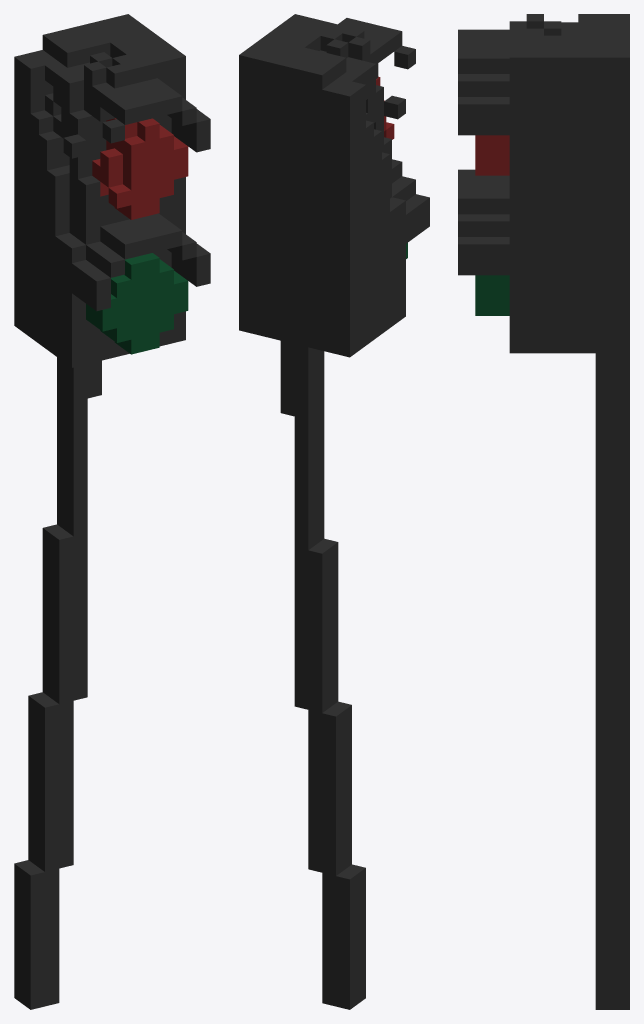
Rendered from Background_A_trafficlight_02.FBX.
3 renders of one model, left to right at view 1: azimuth 30°, elevation 25°; view 2: azimuth 150°, elevation 25°; view 3: azimuth 270°, elevation 25°, orthographic. The views are drawn at different scales.
Parts seen in each view (by area): view 1: Load_A-8; view 2: Load_A-8; view 3: Load_A-8.
Boxes of the visible parts, x1,y1,x2,y2 form: Load_A-8: [14, 14, 210, 1009]; Load_A-8: [239, 14, 429, 1009]; Load_A-8: [458, 14, 629, 1009].
Size of the model in its own units: 0.8 by 6.4 by 1.
1 material, 1 textured.
